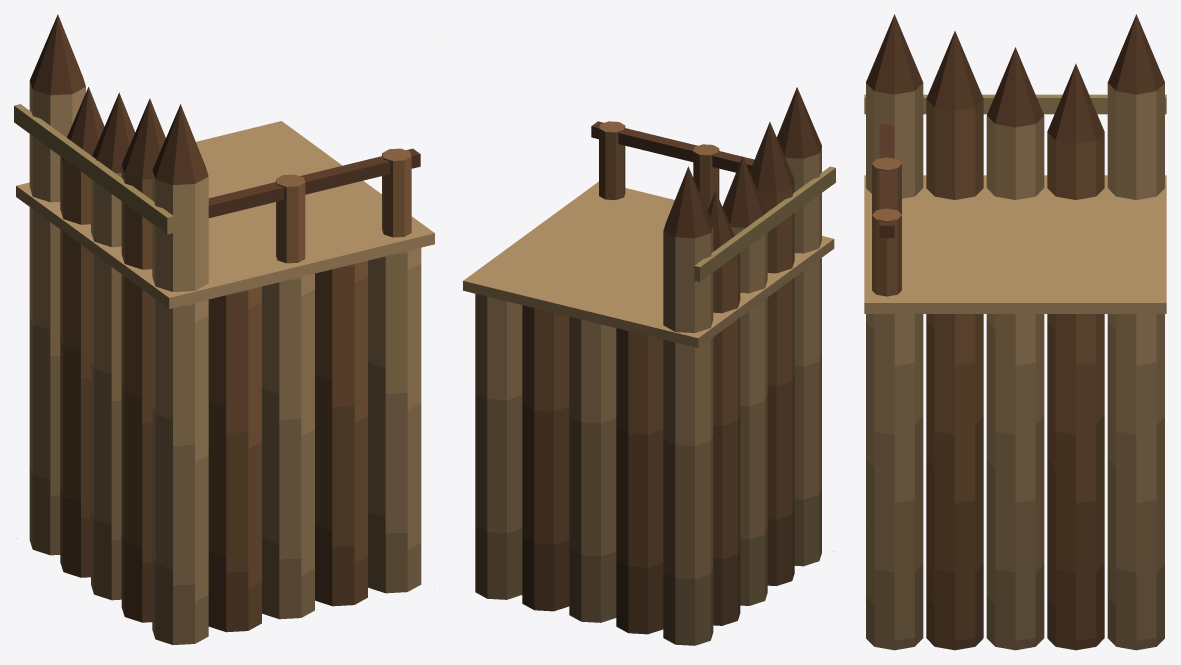
File: perimeter_wall_wood_f3.glb
3 renders of one model, left to right at view 1: azimuth 30°, elevation 25°; view 2: azimuth 150°, elevation 25°; view 3: azimuth 270°, elevation 25°, orthographic. The views are drawn at different scales.
Size of the model in its own units: 2.01 by 3.9 by 2.
1 material, 1 textured.
